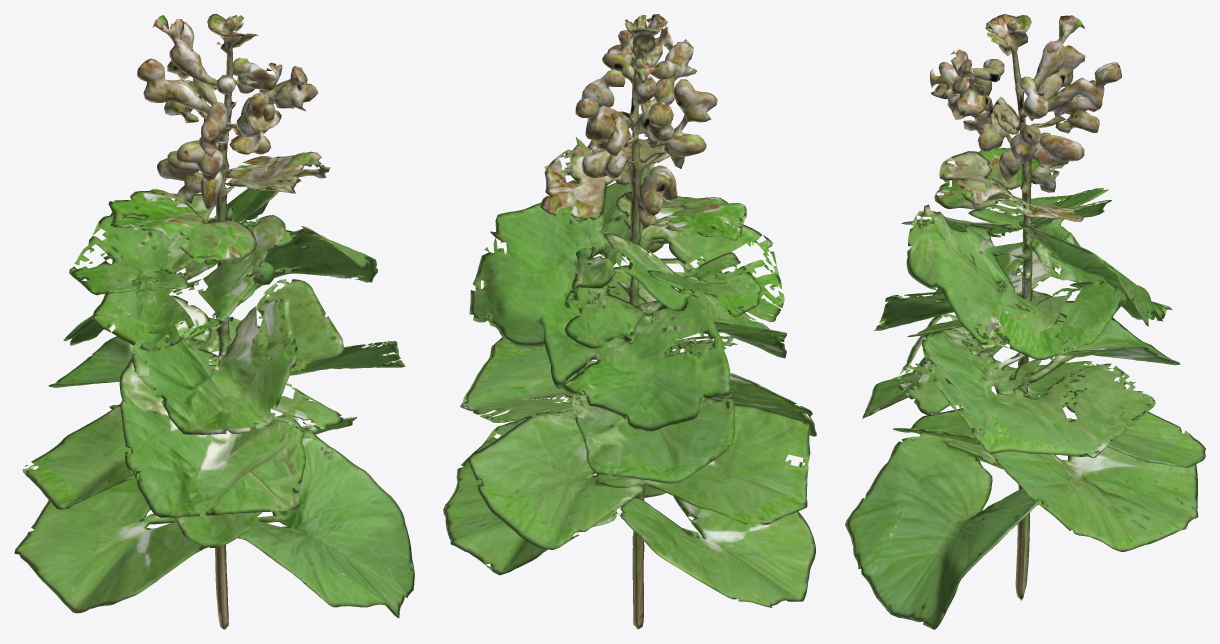
File: tulsi.glb
The picture shows the model from 3 angles, left to right: view 1: azimuth 30°, elevation 25°; view 2: azimuth 150°, elevation 25°; view 3: azimuth 270°, elevation 25°; orthographic projection. The views are drawn at different scales.
Bounding box in the file's own units: 1.17 × 2.04 × 1.15.
Materials: 1 (1 with a texture image).
